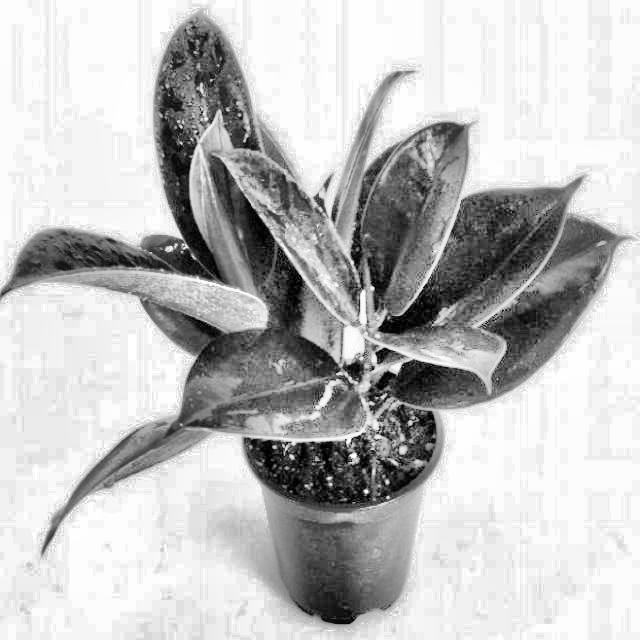plants: (107, 45, 485, 470)
